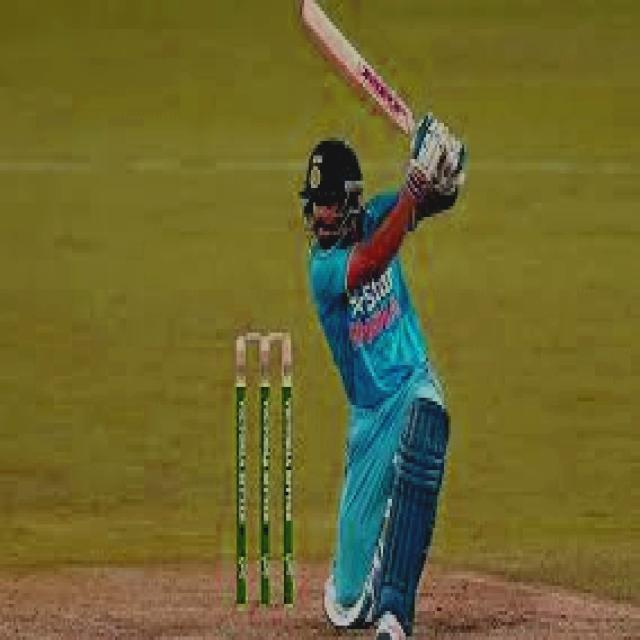bat: (289, 0, 430, 126)
toe: (290, 0, 314, 22)
